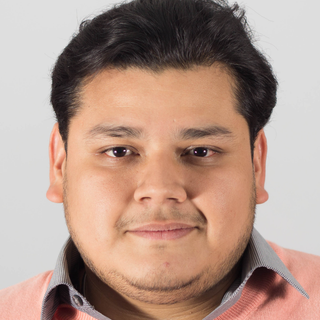eye: (177, 140, 226, 165), (95, 140, 143, 165)
